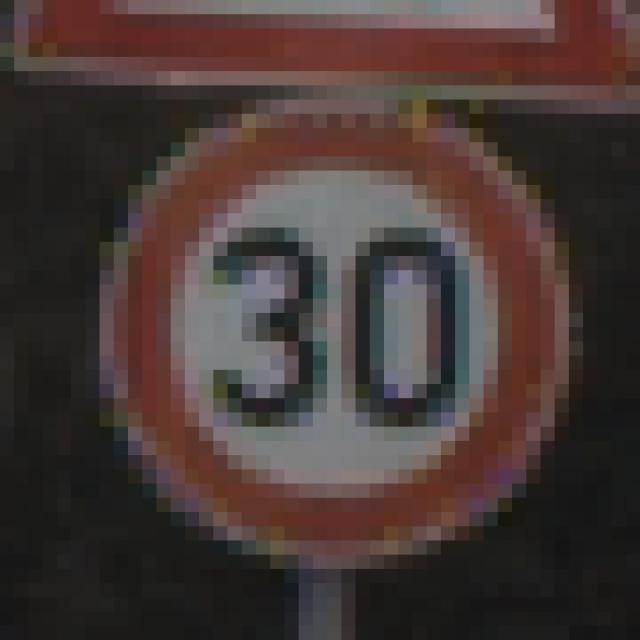Speed Limit -30-: (78, 64, 562, 548)
